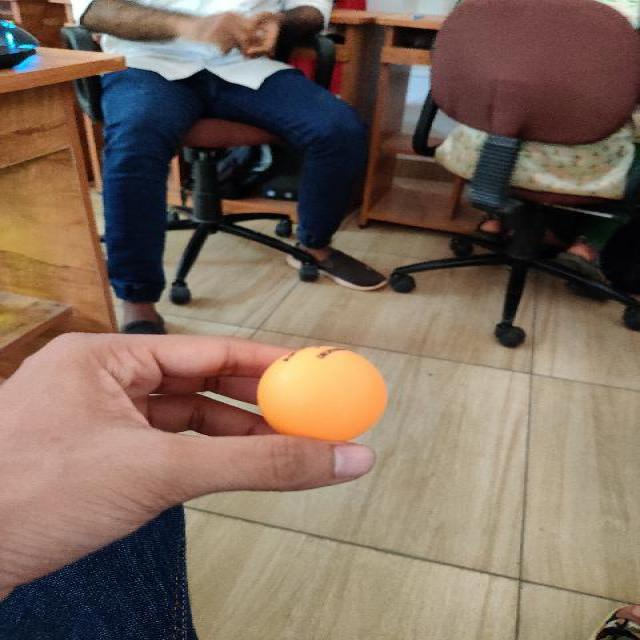ping-pong-ball: (254, 346, 384, 440)
